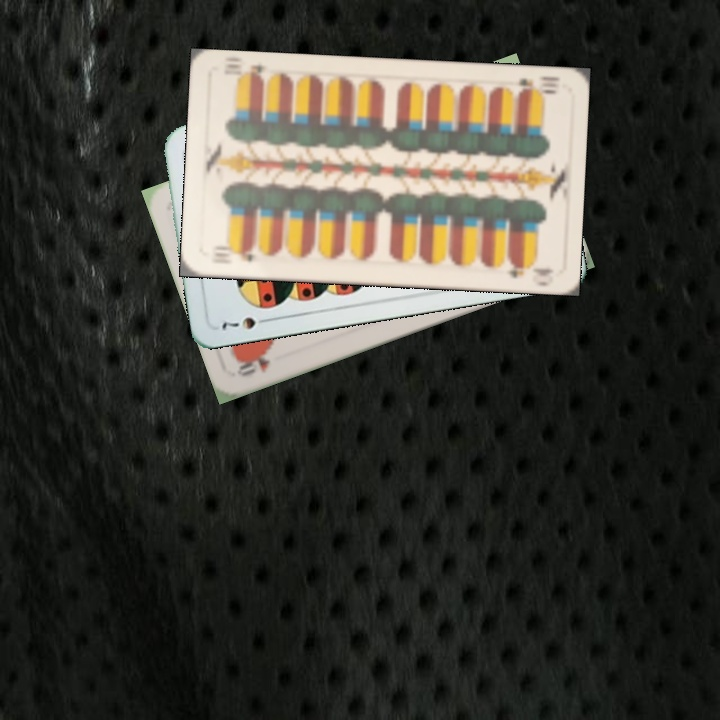E10: (514, 74, 559, 99), (211, 244, 255, 264)
HO: (233, 352, 273, 379)
S7: (217, 313, 274, 332)
